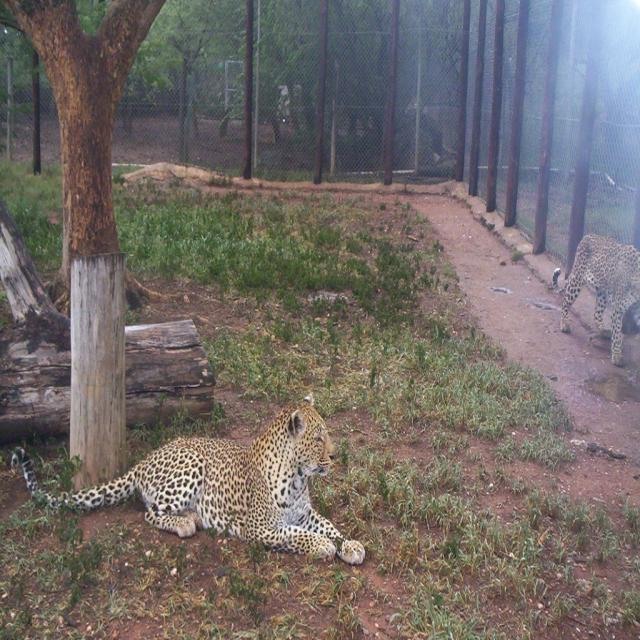cheetah: (27, 359, 411, 571)
